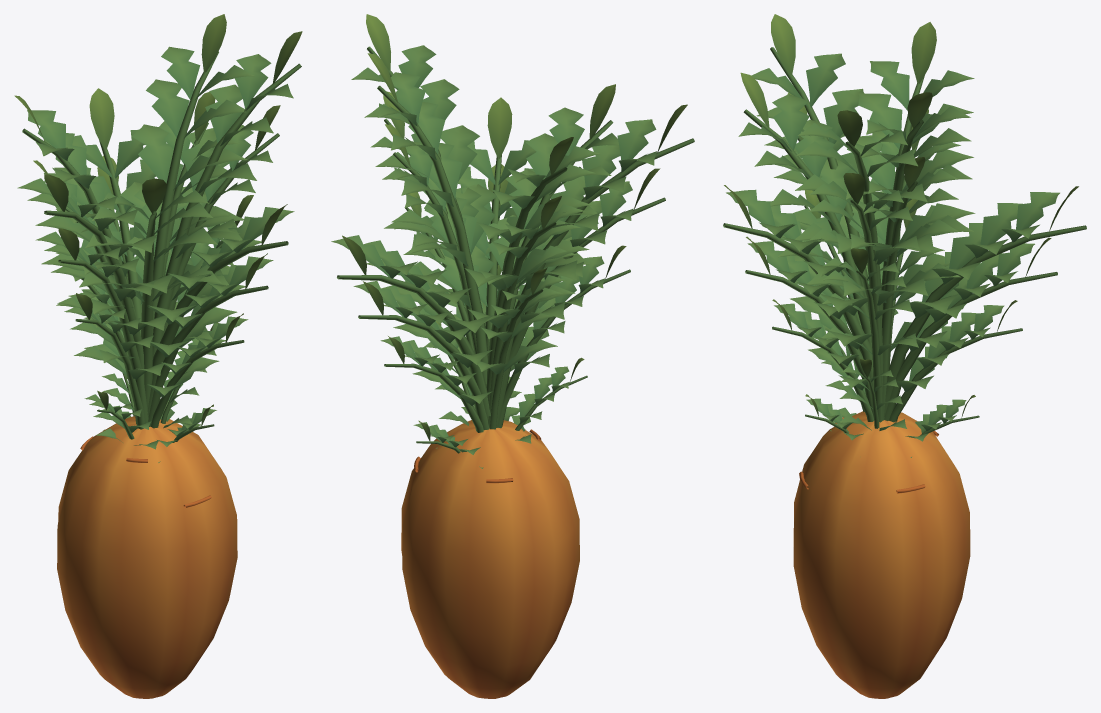
The model's file is carrot.glb.
3 views of the same model, side by side, from view 1: azimuth 30°, elevation 25°; view 2: azimuth 150°, elevation 25°; view 3: azimuth 270°, elevation 25° (orthographic). The views are drawn at different scales.
Visible parts, largest first — view 1: Phase4, Phase3, Phase2, Phase1; view 2: Phase4, Phase3, Phase2, Phase1; view 3: Phase4, Phase3, Phase2, Phase1.
Part boxes in pixels (<box>): Phase4: <box>14,14,302,698</box>; Phase3: <box>33,92,280,426</box>; Phase2: <box>57,195,253,429</box>; Phase1: <box>84,322,220,462</box>; Phase4: <box>331,14,694,698</box>; Phase3: <box>353,91,665,430</box>; Phase2: <box>380,192,630,432</box>; Phase1: <box>413,321,587,468</box>; Phase4: <box>723,14,1086,698</box>; Phase3: <box>745,92,1057,420</box>; Phase2: <box>772,190,1022,422</box>; Phase1: <box>805,331,979,457</box>.
Size of the model in its own units: 0.4592 by 0.9558 by 0.4814.
